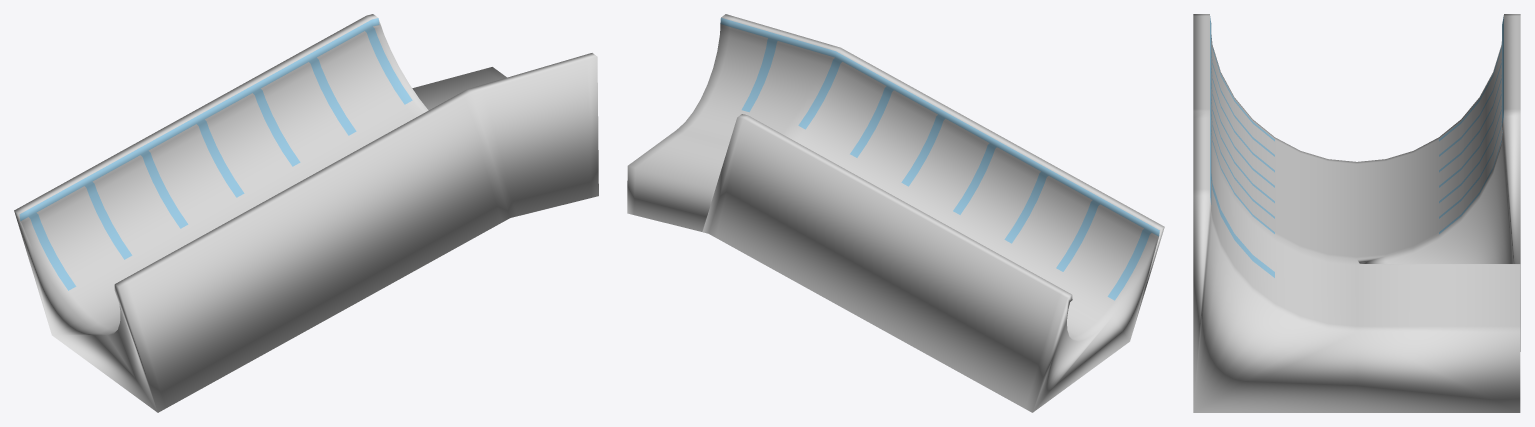
File: Half pipe.fbx
3 views of the same model, side by side, from view 1: azimuth 30°, elevation 25°; view 2: azimuth 150°, elevation 25°; view 3: azimuth 270°, elevation 25° (orthographic). The views are drawn at different scales.
Parts seen in each view (by area): view 1: Cube; view 2: Cube; view 3: Cube.
Part boxes in pixels (x1,y1,x2,y2): Cube: (14,14,598,412); Cube: (627,14,1164,412); Cube: (1193,14,1520,412).
Bounding box in the file's own units: 1043 × 518 × 400.
